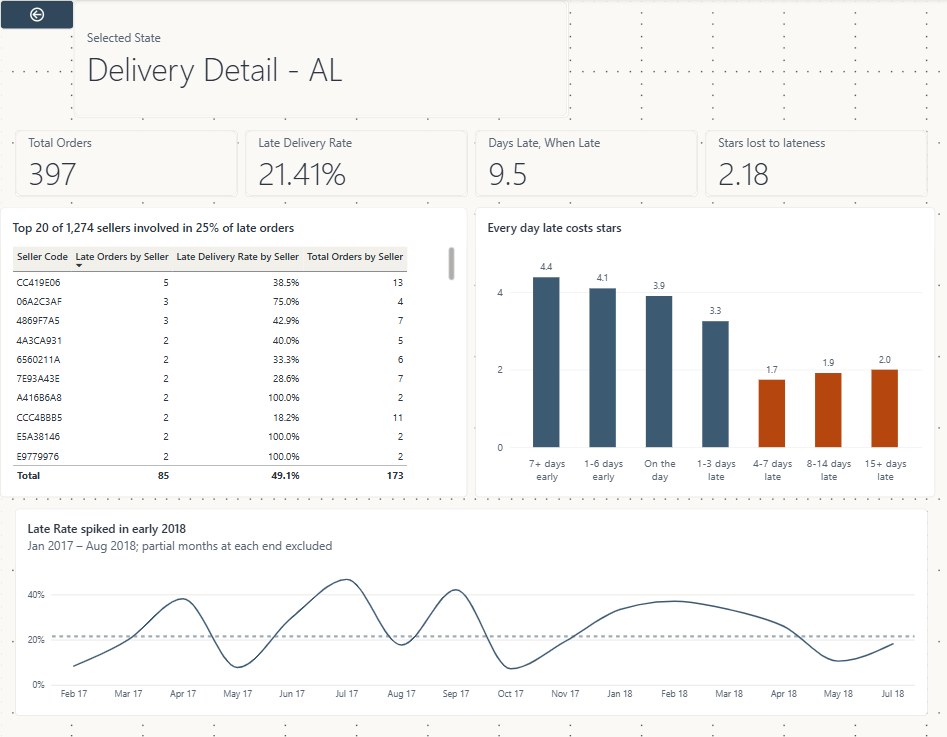

The page's visual inventory and layout, read from the dashboard file:
{"tool":"powerbi","page":{"name":"State Detail","canvas":[1280,1000],"ordinal":1},"visuals":[{"type":"actionButton","box":[0,0,100,40],"z":0},{"type":"cardVisual","fields":{"Data":["_Measures.Selected State"]},"box":[99.4,0,666.9,158.3],"z":1},{"type":"cardVisual","fields":{"Data":["_Measures.Total Orders"]},"box":[20,175,300,90],"z":2},{"type":"cardVisual","fields":{"Data":["_Measures.Late Delivery Rate"]},"box":[330,175,300,90],"z":3},{"type":"cardVisual","fields":{"Data":["_Measures.Avg Days Late When Late"]},"box":[640,175,300,90],"z":4},{"type":"cardVisual","fields":{"Data":["_Measures.Review Score Gap"]},"box":[950,175,300,90],"z":5},{"type":"lineChart","title":"Late Rate spiked in early 2018","fields":{"Category":["Date.Month Short"],"Y":["_Measures.Late Delivery Rate"]},"box":[20.2,685.5,1229.5,279.6],"z":6},{"type":"clusteredColumnChart","title":"Every day late costs stars","fields":{"Category":["Orders.Lateness Bucket"],"Y":["_Measures.Avg Review Score"]},"box":[640,279.6,619.8,390.7],"z":7},{"type":"tableEx","title":"Top 20 of 1,274 sellers involved in 25% of late orders","fields":{"Values":["Sellers.Seller Code","_Measures.Late Orders by Seller","_Measures.Late Delivery Rate by Seller","_Measures.Total Orders by Seller"]},"box":[0,279.6,629.9,390.7],"z":8}]}

Visuals, with their boxes in screenshot pixels (x1, y1, x2, y2), scaled from the page's 1280x1000 canvas onto the 947x737 screenshot:
actionButton: {"x1": 0, "y1": 0, "x2": 74, "y2": 29}
cardVisual - _Measures.Selected State: {"x1": 74, "y1": 0, "x2": 567, "y2": 117}
cardVisual - _Measures.Total Orders: {"x1": 15, "y1": 129, "x2": 237, "y2": 195}
cardVisual - _Measures.Late Delivery Rate: {"x1": 244, "y1": 129, "x2": 466, "y2": 195}
cardVisual - _Measures.Avg Days Late When Late: {"x1": 474, "y1": 129, "x2": 695, "y2": 195}
cardVisual - _Measures.Review Score Gap: {"x1": 703, "y1": 129, "x2": 925, "y2": 195}
"Late Rate spiked in early 2018" lineChart: {"x1": 15, "y1": 505, "x2": 925, "y2": 711}
"Every day late costs stars" clusteredColumnChart: {"x1": 474, "y1": 206, "x2": 932, "y2": 494}
"Top 20 of 1,274 sellers involved in 25% of late orders" tableEx: {"x1": 0, "y1": 206, "x2": 466, "y2": 494}
